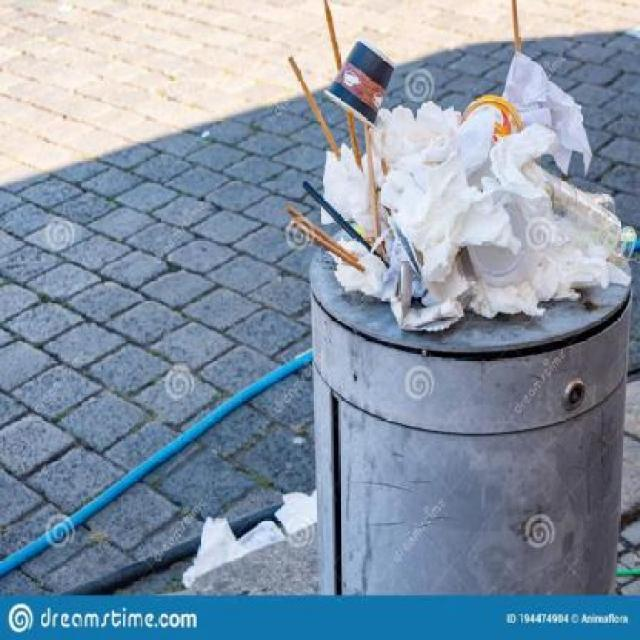garbage: (305, 53, 606, 309)
